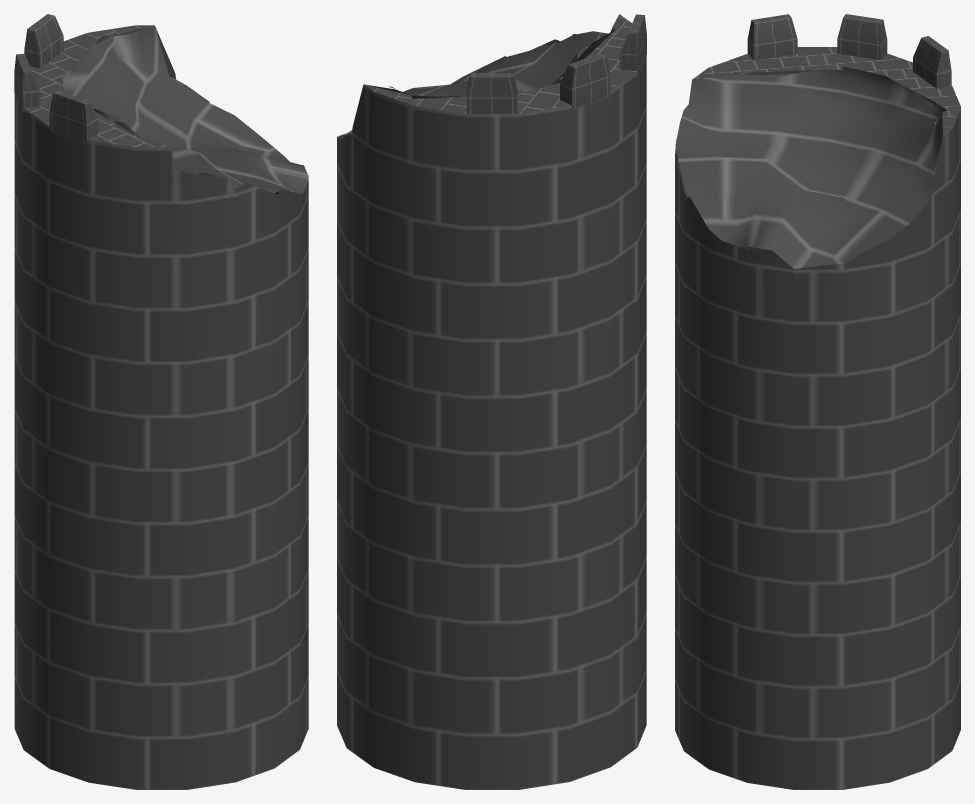
The model's file is CastleTurretBrokenTop.FBX.
The picture shows the model from 3 angles, left to right: view 1: azimuth 30°, elevation 25°; view 2: azimuth 150°, elevation 25°; view 3: azimuth 270°, elevation 25°; orthographic projection. The views are drawn at different scales.
Parts seen in each view (by area): view 1: Turret003, WallTopAccent202, WallTopAccent203, WallTopAccent205; view 2: Turret003, WallTopAccent205, WallTopAccent203, WallTopAccent202; view 3: Turret003, WallTopAccent202, WallTopAccent205, WallTopAccent203.
Part boxes in pixels (box(x1,y1,x2,y2)): Turret003: box(14, 25, 308, 789); WallTopAccent202: box(49, 90, 97, 144); WallTopAccent203: box(24, 14, 63, 68); WallTopAccent205: box(14, 53, 40, 111); Turret003: box(337, 14, 646, 789); WallTopAccent205: box(560, 53, 610, 109); WallTopAccent203: box(466, 73, 517, 113); WallTopAccent202: box(620, 14, 646, 75); Turret003: box(675, 47, 960, 789); WallTopAccent202: box(747, 14, 797, 60); WallTopAccent205: box(837, 14, 887, 59); WallTopAccent203: box(913, 36, 951, 88).
Bounding box in the file's own units: 72.49 × 187 × 73.43.
2 materials, 2 textured.
